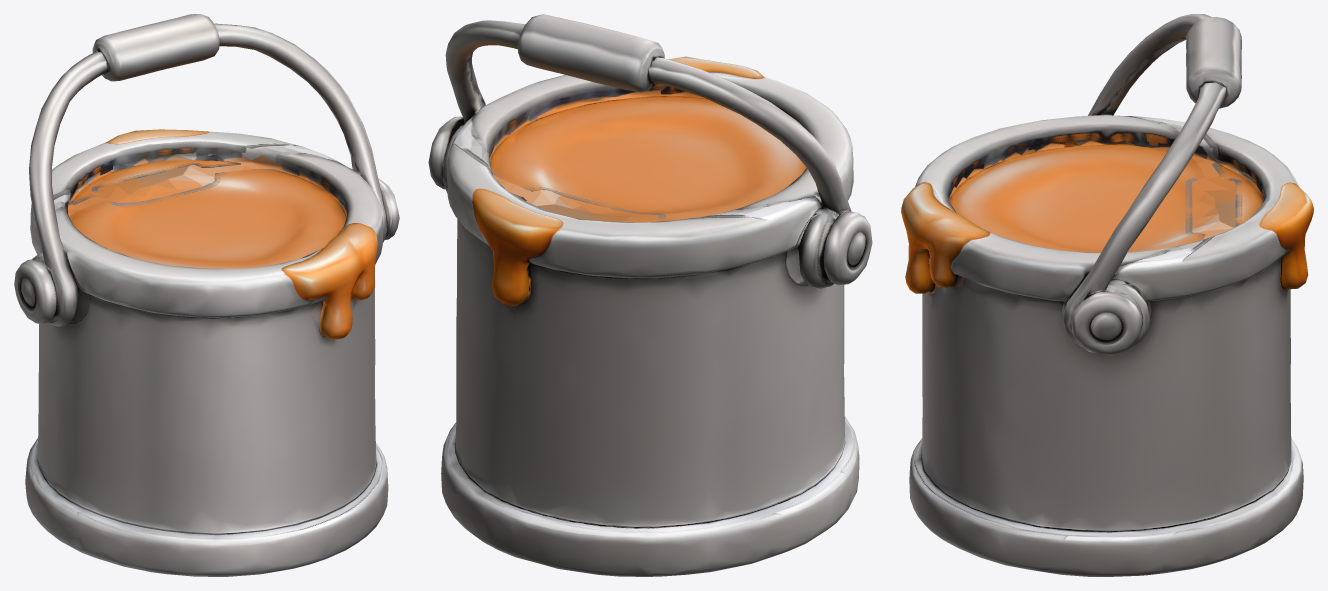
Rendered from PaintCan.glb.
3 views of the same model, side by side, from view 1: azimuth 30°, elevation 25°; view 2: azimuth 150°, elevation 25°; view 3: azimuth 270°, elevation 25° (orthographic). The views are drawn at different scales.
Visible parts, largest first — view 1: input; view 2: input; view 3: input.
Boxes of the visible parts, box(x1,y1,x2,y2) form: input: box(14, 14, 399, 576); input: box(428, 14, 872, 576); input: box(901, 14, 1313, 576).
Bounding box in the file's own units: 0.8693 × 0.9995 × 0.812.
Materials: 1 (1 with a texture image).
